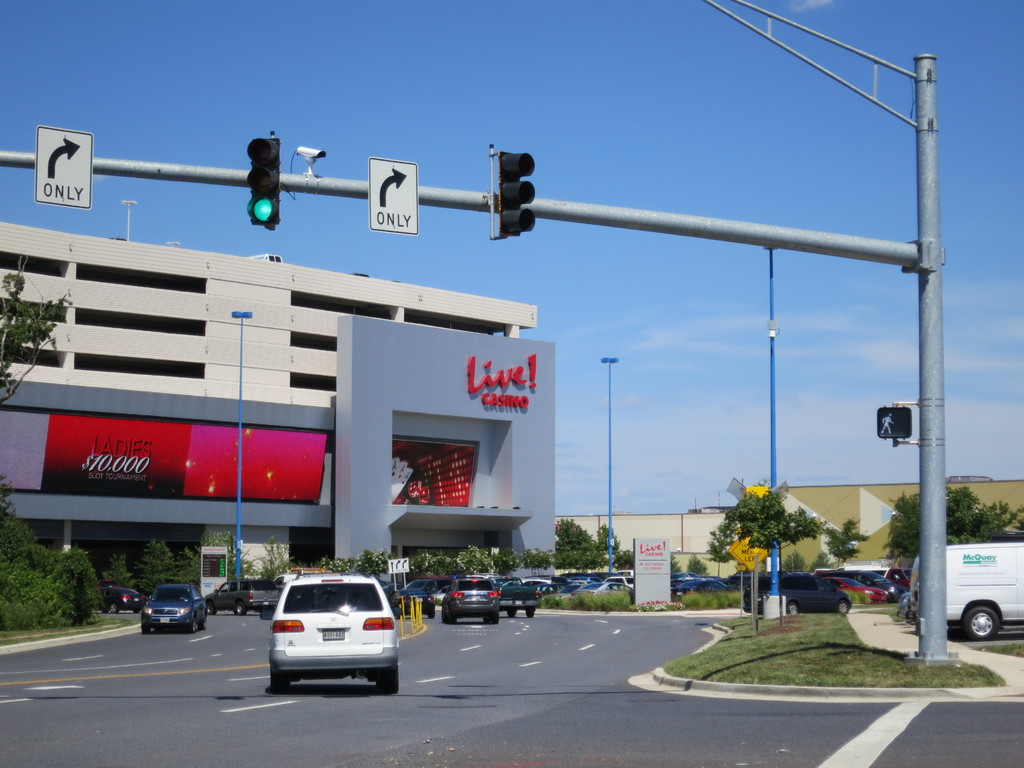green_light: (250, 138, 279, 224)
